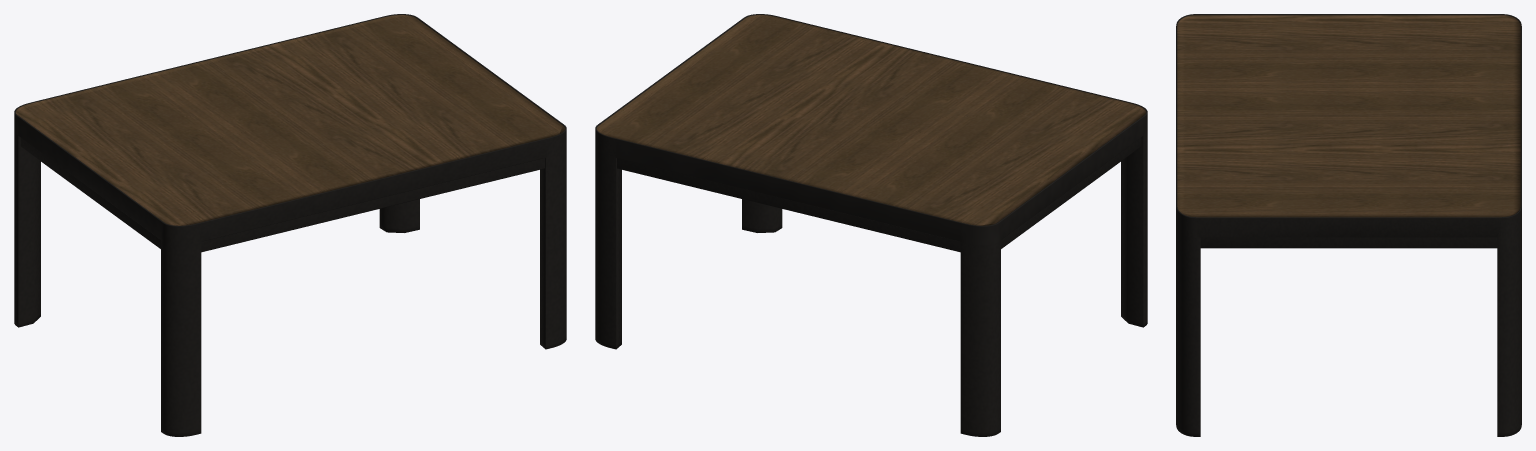
Rendered from Table.obj.
3 renders of one model, left to right at view 1: azimuth 30°, elevation 25°; view 2: azimuth 150°, elevation 25°; view 3: azimuth 270°, elevation 25°, orthographic. The views are drawn at different scales.
Visible parts, largest first — view 1: Cube, Cube.002; view 2: Cube, Cube.002; view 3: Cube, Cube.002.
Part boxes in pixels (x1,y1,x2,y2): Cube: [14, 14, 566, 436]; Cube.002: [20, 137, 544, 252]; Cube: [595, 14, 1147, 436]; Cube.002: [617, 137, 1141, 252]; Cube: [1176, 14, 1521, 436]; Cube.002: [1200, 237, 1497, 248].
Size of what is drawn, in the model's own units: 5.45 by 2.73 by 3.9.
Materials: 1 (1 with a texture image).
